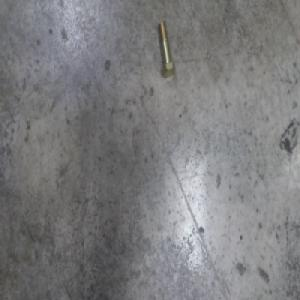Bolt: (158, 20, 175, 77)
